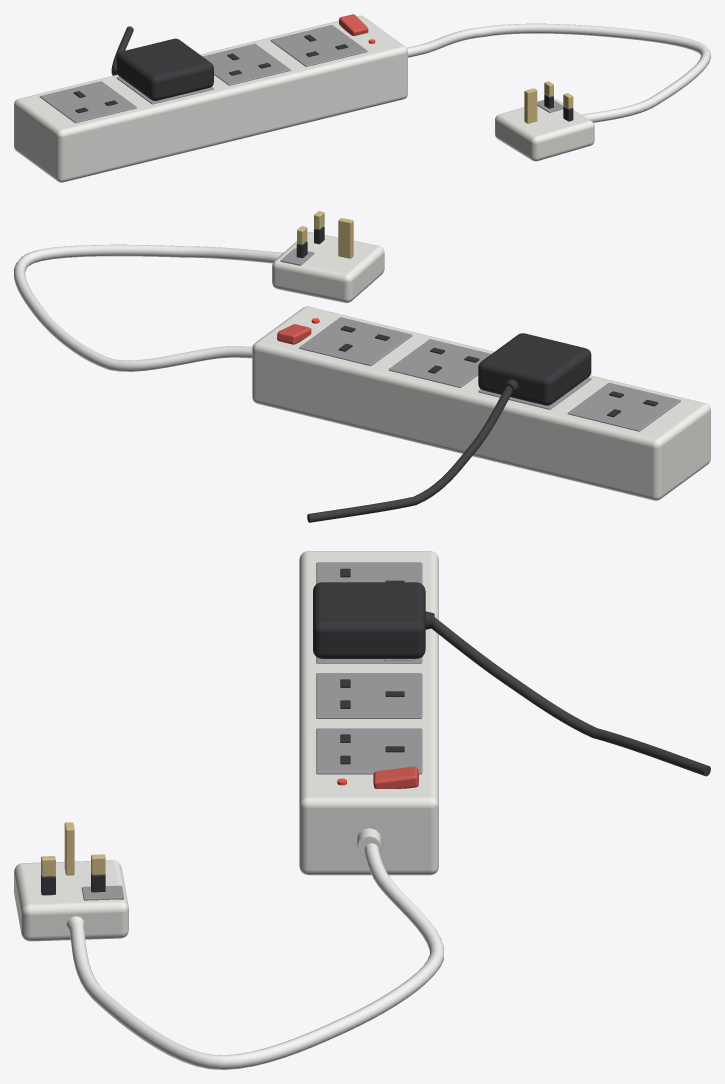
Rendered from kitchen_extension_lead.fbx.
The picture shows the model from 3 angles, top to bottom: view 1: azimuth 30°, elevation 25°; view 2: azimuth 150°, elevation 25°; view 3: azimuth 270°, elevation 25°; orthographic projection. The views are drawn at different scales.
Visible parts, largest first — view 1: kitchen_extension_lead; view 2: kitchen_extension_lead; view 3: kitchen_extension_lead.
Boxes of the visible parts, x1=… form: kitchen_extension_lead: x1=14, y1=14, x2=710, y2=182; kitchen_extension_lead: x1=14, y1=211, x2=710, y2=522; kitchen_extension_lead: x1=14, y1=551, x2=710, y2=1069.
Size of the model in its own units: 0.4688 by 0.0572 by 0.3091.
